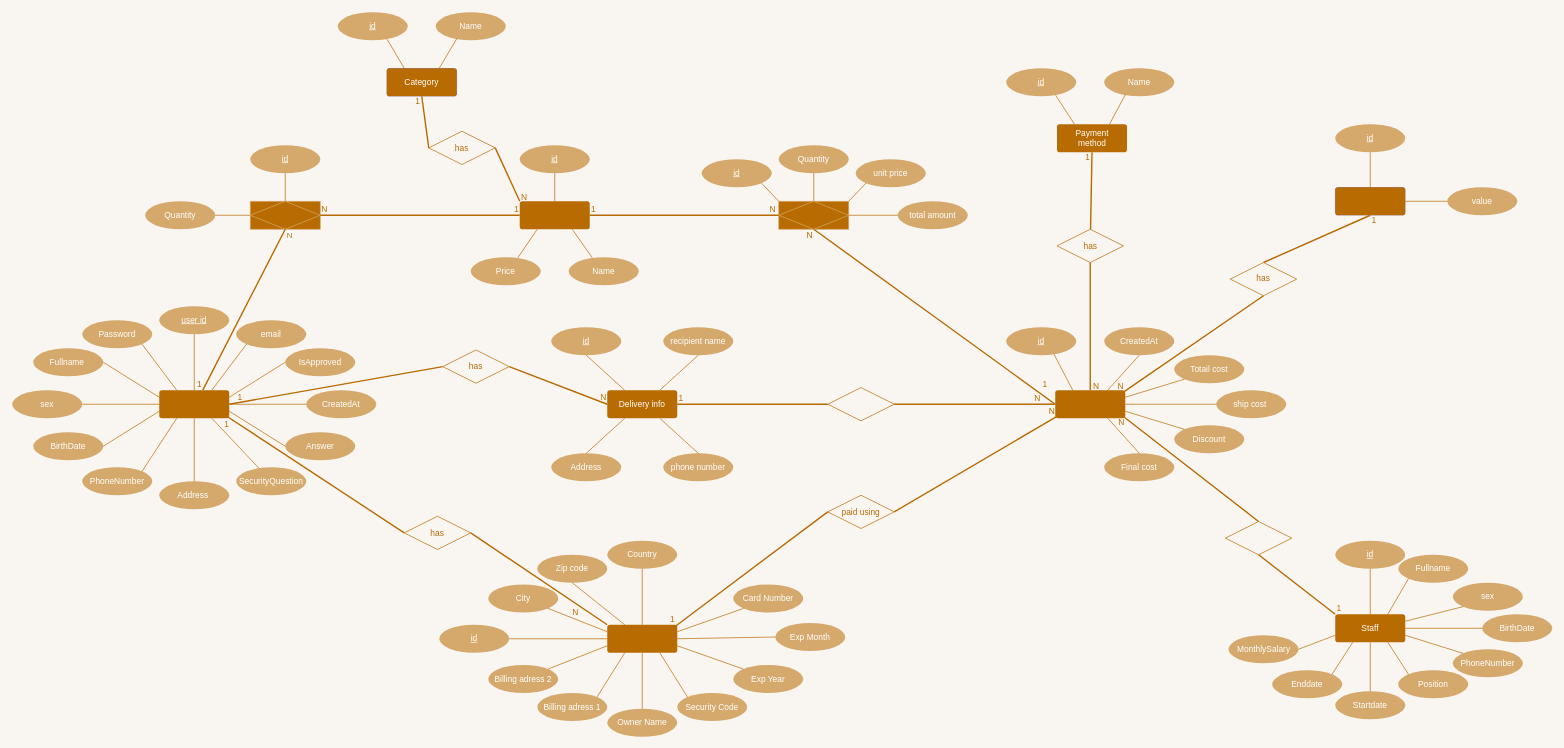
The diagram is 1564 pixels wide and 748 high, and some of its shapes have lost their labels. The box of each missing label's shape, as (x1, y1, x2, y2) in pixels:
Cart item: (250, 201, 320, 229)
delivered to: (827, 387, 894, 421)
Order: (1055, 390, 1125, 418)
Order details: (778, 201, 849, 229)
Payment info: (607, 624, 677, 652)
Product: (519, 201, 589, 229)
shipped by: (1225, 521, 1292, 555)
Status: (1335, 187, 1405, 215)
User: (159, 390, 229, 418)
